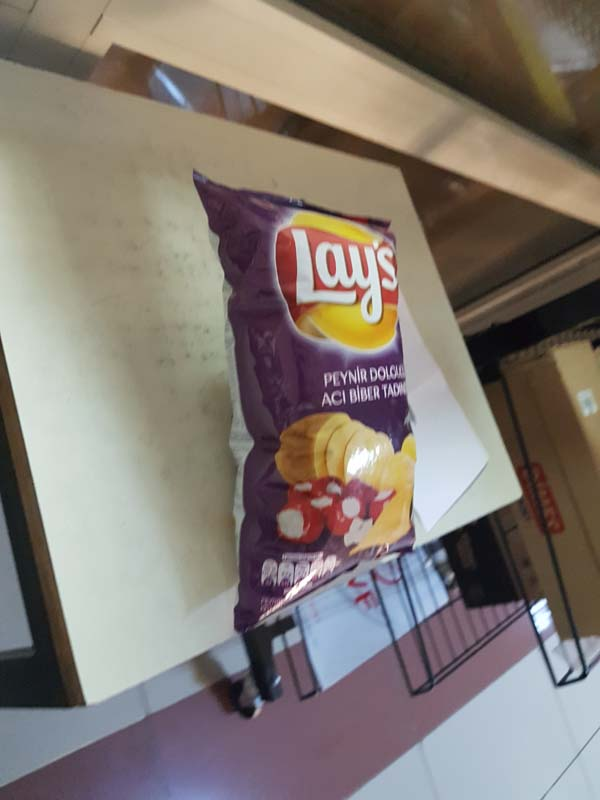layspeynirsoslu: (195, 166, 419, 629)
